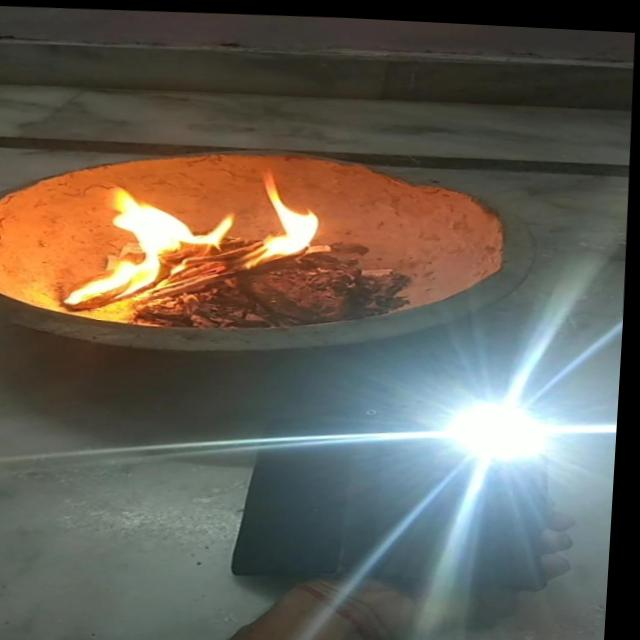fire: (60, 160, 336, 317)
